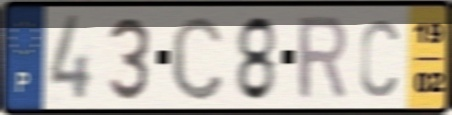3: (104, 13, 153, 104)
4: (46, 12, 96, 105)
8: (233, 10, 279, 105)
C: (168, 12, 226, 104), (357, 15, 401, 100)
R: (295, 13, 350, 103)
